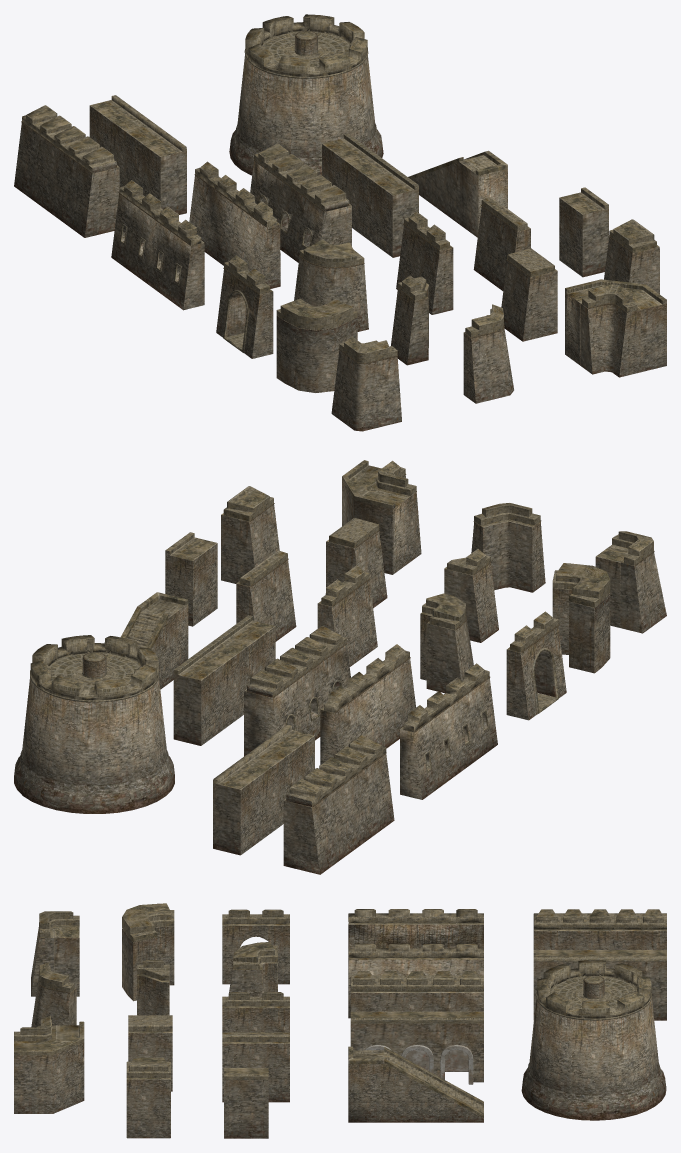
Rendered from modular_fort_01.glb.
The picture shows the model from 3 angles, top to bottom: view 1: azimuth 30°, elevation 25°; view 2: azimuth 150°, elevation 25°; view 3: azimuth 270°, elevation 25°; orthographic projection. The views are drawn at different scales.
Visible parts, largest first — view 1: modular_fort_01_tower_round, modular_fort_01_wall_thick_straight_01, modular_fort_01_wall_thin_straight_02, modular_fort_01_wall_thick_straight_02, modular_fort_01_wall_thin_straight_01, modular_fort_01_wall_walkway_straight_01, modular_fort_01_wall_walkway_straight_02, modular_fort_01_wall_thick_corner_02, modular_fort_01_wall_thin_corner_02, modular_fort_01_wall_thin_corner_01, modular_fort_01_wall_stairs_straight_01, modular_fort_01_wall_thin_gate_01 (+9 smaller); view 2: modular_fort_01_tower_round, modular_fort_01_wall_thick_straight_01, modular_fort_01_wall_thin_straight_02, modular_fort_01_wall_walkway_straight_01, modular_fort_01_wall_walkway_straight_02, modular_fort_01_wall_thick_straight_02, modular_fort_01_wall_thin_straight_01, modular_fort_01_wall_thick_corner_02, modular_fort_01_wall_thin_corner_03, modular_fort_01_wall_thin_gate_01, modular_fort_01_wall_thick_corner_01, modular_fort_01_wall_thick_end_02 (+10 smaller); view 3: modular_fort_01_tower_round, modular_fort_01_wall_stairs_straight_01, modular_fort_01_wall_walkway_straight_01, modular_fort_01_wall_walkway_corner_01, modular_fort_01_wall_thick_straight_01, modular_fort_01_wall_thick_straight_02, modular_fort_01_wall_thin_straight_02, modular_fort_01_wall_thin_straight_01, modular_fort_01_wall_thick_end_02, modular_fort_01_wall_thick_corner_02, modular_fort_01_wall_walkway_straight_02, modular_fort_01_wall_thin_straight_03 (+10 smaller).
Boxes of the visible parts, x1,y1,x2,y2 form: modular_fort_01_tower_round: (229, 14, 383, 175); modular_fort_01_wall_thick_straight_01: (14, 105, 119, 237); modular_fort_01_wall_thin_straight_02: (111, 180, 204, 310); modular_fort_01_wall_thick_straight_02: (250, 143, 351, 262); modular_fort_01_wall_thin_straight_01: (189, 161, 280, 288); modular_fort_01_wall_walkway_straight_01: (322, 133, 418, 257); modular_fort_01_wall_walkway_straight_02: (89, 95, 186, 214); modular_fort_01_wall_thick_corner_02: (276, 298, 357, 392); modular_fort_01_wall_thin_corner_02: (331, 336, 401, 431); modular_fort_01_wall_thin_corner_01: (580, 284, 640, 377); modular_fort_01_wall_stairs_straight_01: (408, 150, 507, 237); modular_fort_01_wall_thin_gate_01: (216, 255, 273, 358); modular_fort_01_tower_round: (14, 635, 174, 813); modular_fort_01_wall_thick_straight_01: (283, 735, 394, 874); modular_fort_01_wall_thin_straight_02: (400, 663, 497, 799); modular_fort_01_wall_walkway_straight_01: (173, 615, 275, 745); modular_fort_01_wall_walkway_straight_02: (213, 724, 314, 855); modular_fort_01_wall_thick_straight_02: (244, 626, 350, 756); modular_fort_01_wall_thin_straight_01: (320, 644, 415, 764); modular_fort_01_wall_thick_corner_02: (552, 563, 610, 673); modular_fort_01_wall_thin_corner_03: (471, 503, 545, 592); modular_fort_01_wall_thin_gate_01: (506, 611, 566, 720); modular_fort_01_wall_thick_corner_01: (420, 593, 473, 693); modular_fort_01_wall_thick_end_02: (221, 486, 279, 583); modular_fort_01_tower_round: (521, 960, 666, 1120); modular_fort_01_wall_stairs_straight_01: (348, 1046, 483, 1122); modular_fort_01_wall_walkway_straight_01: (350, 1011, 483, 1084); modular_fort_01_wall_walkway_corner_01: (14, 1021, 84, 1113); modular_fort_01_wall_thick_straight_01: (533, 909, 666, 949); modular_fort_01_wall_thick_straight_02: (350, 971, 483, 1011); modular_fort_01_wall_thin_straight_02: (348, 909, 483, 948); modular_fort_01_wall_thin_straight_01: (348, 943, 483, 1018); modular_fort_01_wall_thick_end_02: (126, 1057, 170, 1138); modular_fort_01_wall_thick_corner_02: (122, 903, 174, 1001); modular_fort_01_wall_walkway_straight_02: (533, 950, 666, 1020); modular_fort_01_wall_thin_straight_03: (222, 1032, 289, 1102).
Bounding box in the file's own units: 42.67 × 13.67 × 71.38.
3 materials, 3 textured.
